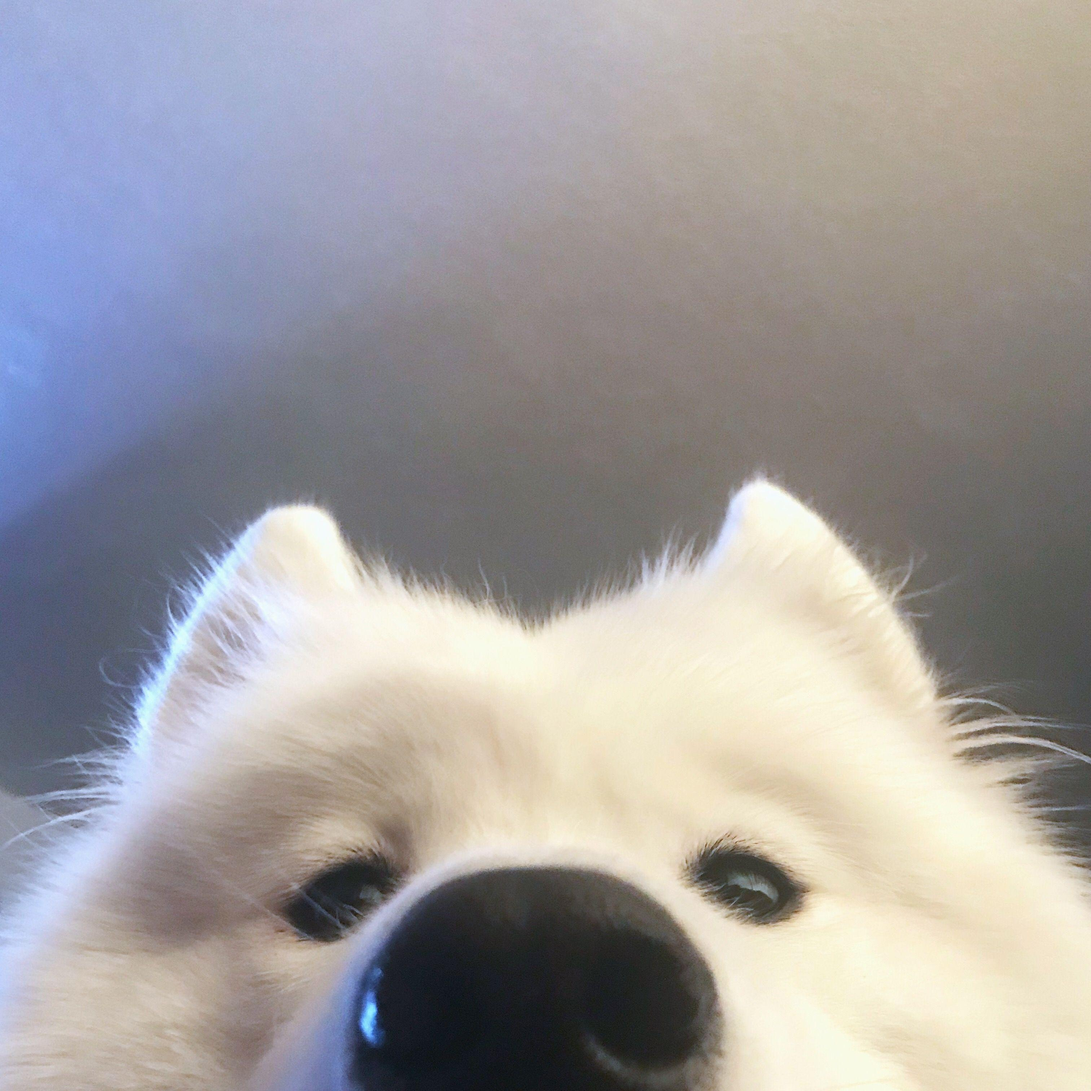adult_dog: (0, 471, 1091, 1091)
